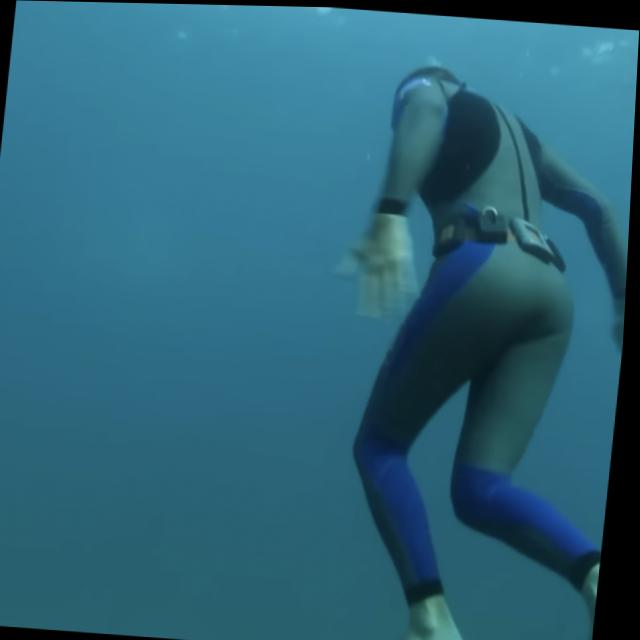human: (301, 48, 638, 640)
